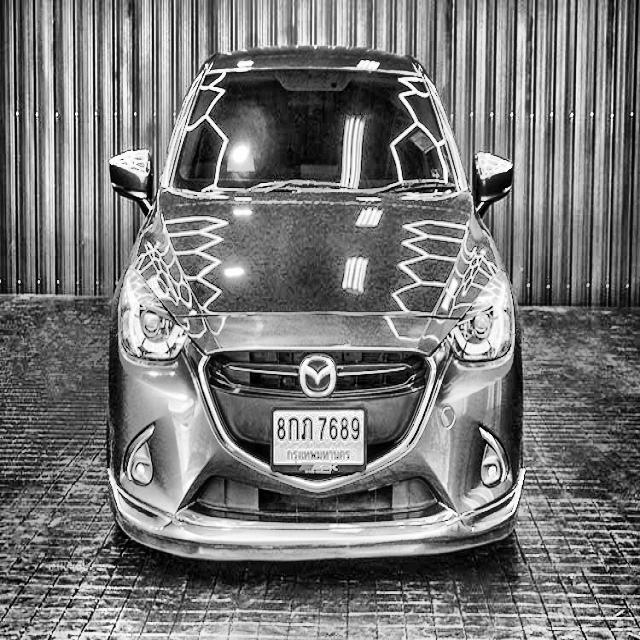license-plate: (268, 400, 368, 476)
